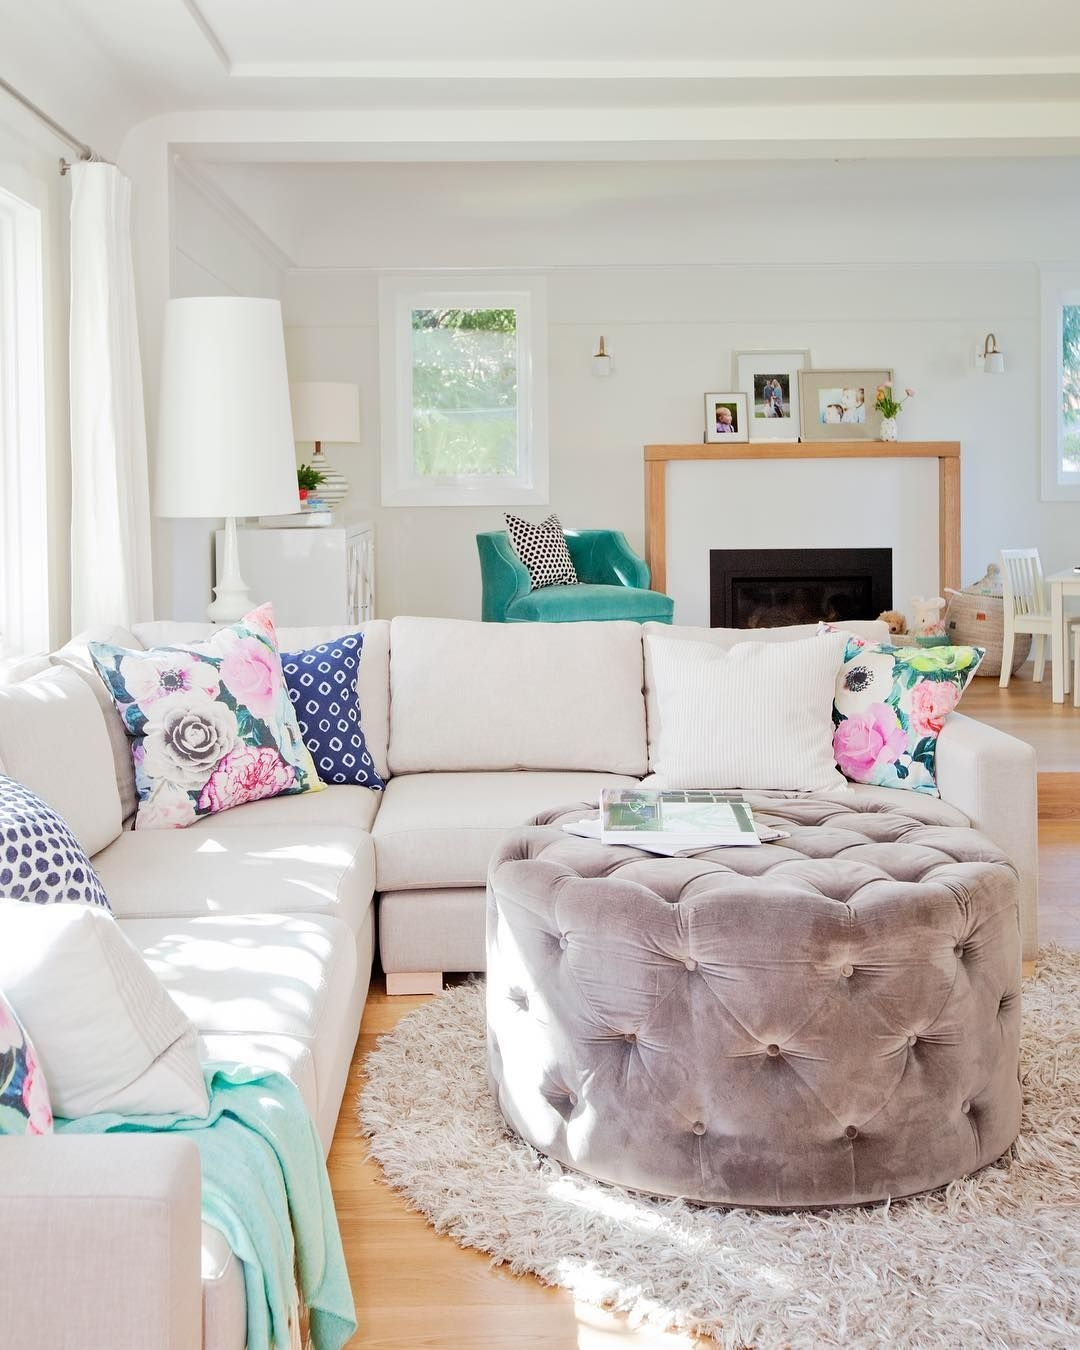biru: (207, 1067, 365, 1349)
hijau: (483, 525, 665, 622)
hitam: (709, 544, 895, 620)
putih: (386, 622, 843, 777), (8, 901, 209, 1115), (163, 295, 305, 525), (996, 547, 1057, 691), (295, 380, 363, 446)
